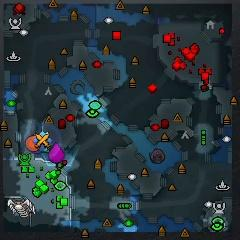Other: (33, 131, 52, 151)
p3: (47, 142, 64, 163)
p5: (25, 135, 40, 152)
